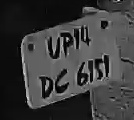1: (103, 53, 112, 80), (73, 26, 81, 52), (87, 59, 94, 85)
4: (80, 25, 94, 48)
5: (94, 57, 105, 83)
6: (74, 60, 89, 87)
C: (54, 68, 73, 94)
D: (39, 71, 55, 104)
P: (60, 30, 75, 58)
U: (46, 34, 61, 61)
